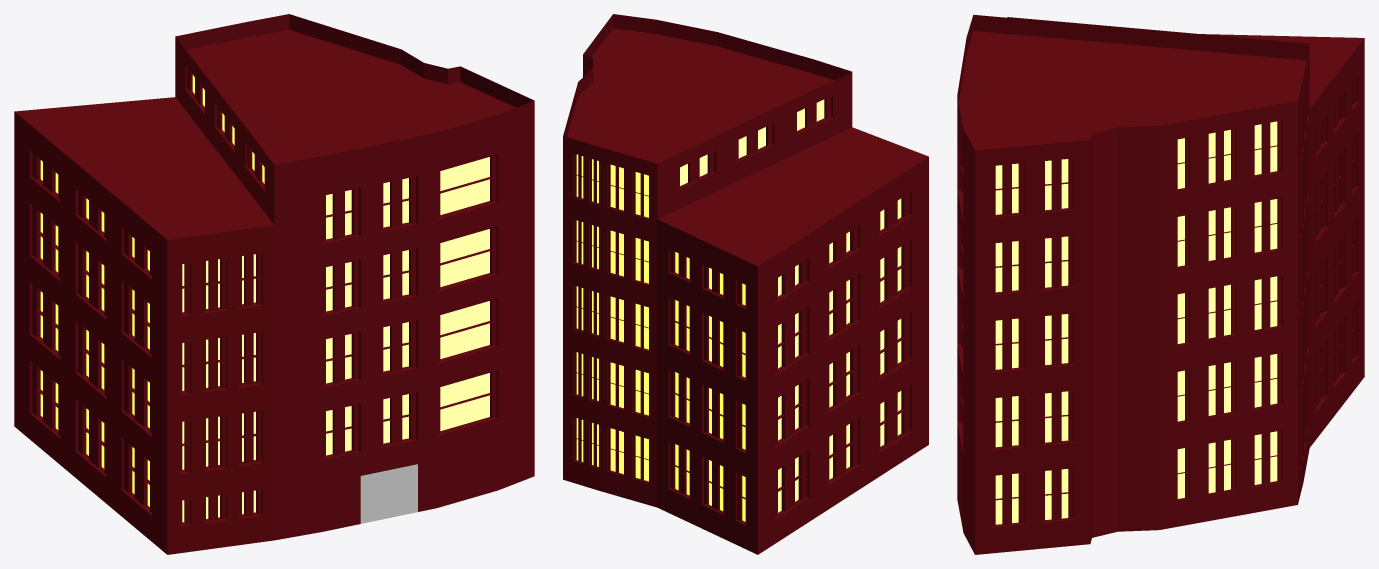
Rendered from garcia_tower.fbx.
3 views of the same model, side by side, from view 1: azimuth 30°, elevation 25°; view 2: azimuth 150°, elevation 25°; view 3: azimuth 270°, elevation 25° (orthographic). The views are drawn at different scales.
Visible parts, largest first — view 1: Plane; view 2: Plane; view 3: Plane.
Boxes of the visible parts, bbox=[...] form: Plane: bbox=[14, 14, 534, 554]; Plane: bbox=[563, 14, 928, 554]; Plane: bbox=[957, 14, 1364, 554].
Bounding box in the file's own units: 1035 × 1044 × 953.
